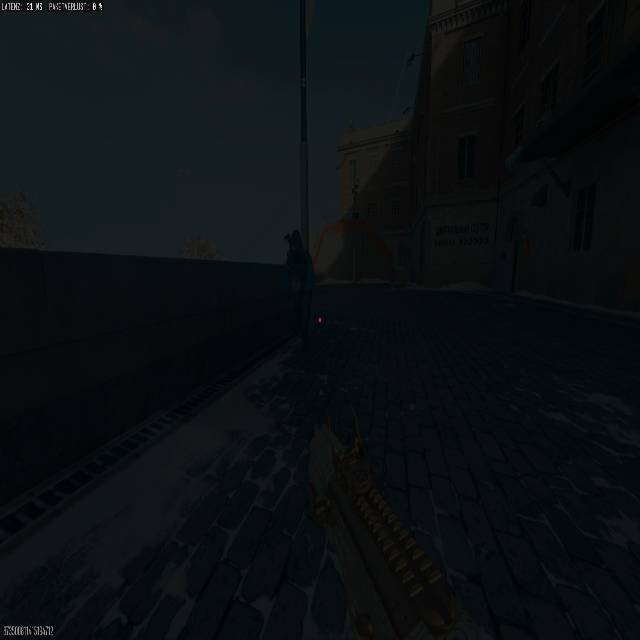head: (287, 229, 301, 243)
player: (281, 227, 316, 340)
